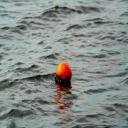red: (56, 62, 72, 82)
